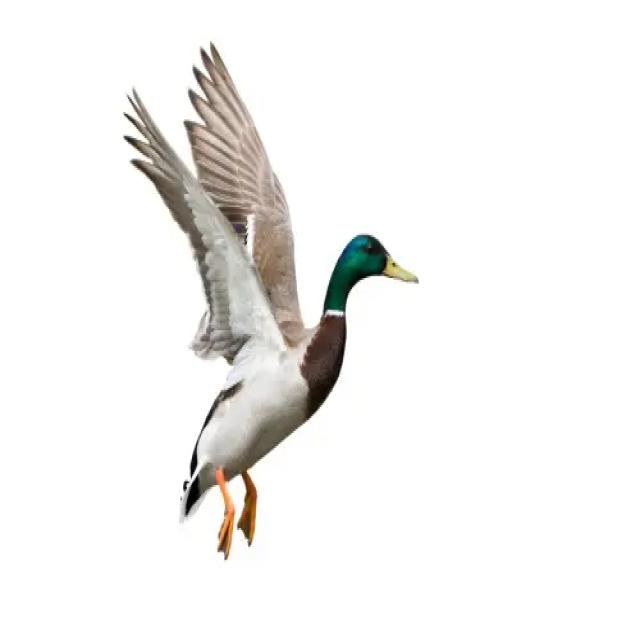ducks: (109, 43, 427, 575)
